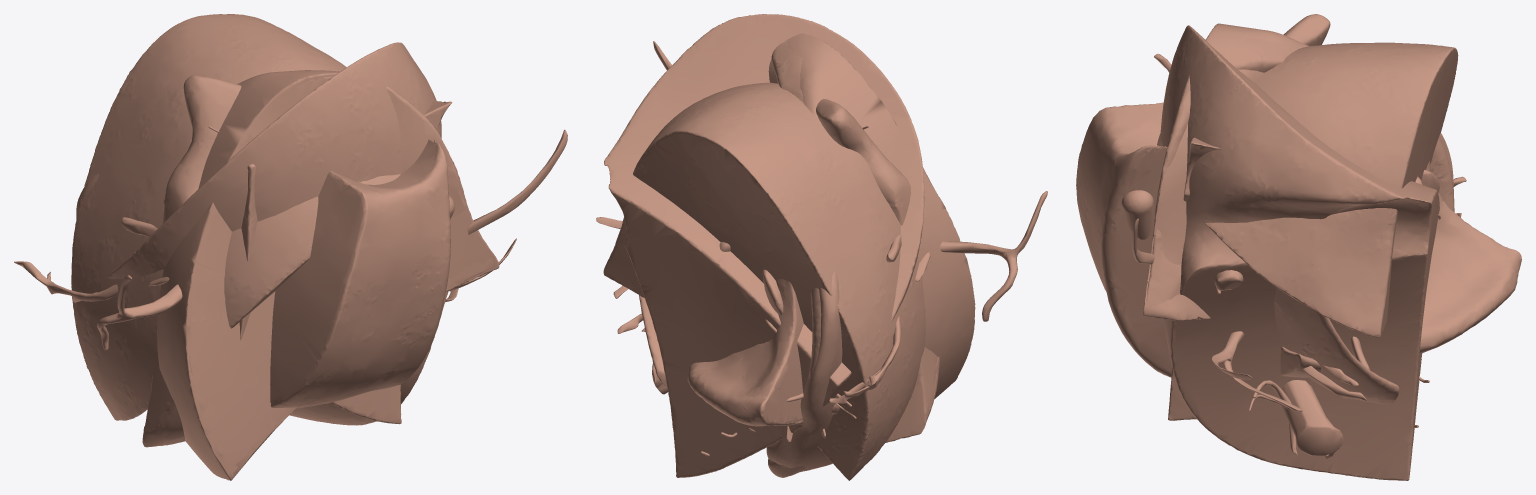
Rendered from atlas_liver.glb.
3 views of the same model, side by side, from view 1: azimuth 30°, elevation 25°; view 2: azimuth 150°, elevation 25°; view 3: azimuth 270°, elevation 25° (orthographic). The views are drawn at different scales.
Parts seen in each view (by area): view 1: hepatovenous segment viii (×2), hepatovenous segment iv, hepatovenous segment vii, hepatovenous segment vi, hepatovenous segment ii, left portal vein, hepatovenous segment v, hepatovenous segment iii; view 2: hepatovenous segment viii (×2), hepatovenous segment vii, hepatovenous segment iv, hepatovenous segment ii, left portal vein, hepatovenous segment vi, caudate lobe of liver; view 3: hepatovenous segment viii (×2), hepatovenous segment iv, hepatovenous segment ii, hepatovenous segment vii, hepatovenous segment vi, right portal vein, left portal vein, hepatovenous segment v, anterior inferior segmental tributary of middle hepatic vein, hepatovenous segment iii, right hepatic vein.
Boxes of the visible parts, x1=… form: hepatovenous segment viii (×2): x1=71, y1=14, x2=448, y2=425; hepatovenous segment iv: x1=270, y1=139, x2=450, y2=408; hepatovenous segment vii: x1=76, y1=70, x2=499, y2=480; hepatovenous segment vi: x1=189, y1=70, x2=495, y2=477; hepatovenous segment ii: x1=142, y1=75, x2=241, y2=447; left portal vein: x1=14, y1=130, x2=567, y2=350; hepatovenous segment v: x1=331, y1=99, x2=452, y2=424; hepatovenous segment iii: x1=239, y1=164, x2=257, y2=340; hepatovenous segment viii (×2): x1=603, y1=14, x2=925, y2=480; hepatovenous segment vii: x1=766, y1=33, x2=975, y2=471; hepatovenous segment iv: x1=687, y1=279, x2=803, y2=426; hepatovenous segment ii: x1=639, y1=98, x2=939, y2=442; left portal vein: x1=596, y1=41, x2=1047, y2=403; hepatovenous segment vi: x1=768, y1=39, x2=821, y2=477; caudate lobe of liver: x1=762, y1=269, x2=783, y2=314; hepatovenous segment viii (×2): x1=1157, y1=25, x2=1458, y2=480; hepatovenous segment iv: x1=1076, y1=102, x2=1521, y2=377; hepatovenous segment ii: x1=1274, y1=14, x2=1399, y2=404; hepatovenous segment vii: x1=1143, y1=23, x2=1454, y2=320; hepatovenous segment vi: x1=1146, y1=36, x2=1453, y2=308; right portal vein: x1=1279, y1=380, x2=1343, y2=458; left portal vein: x1=1131, y1=53, x2=1466, y2=411; hepatovenous segment v: x1=1168, y1=137, x2=1221, y2=420; anterior inferior segmental tributary of middle hepatic vein: x1=1121, y1=190, x2=1153, y2=239; hepatovenous segment iii: x1=1280, y1=347, x2=1320, y2=377; right hepatic vein: x1=1214, y1=270, x2=1243, y2=290.
Bounding box in the file's own units: 4514234 × 4188786 × 3884853.
